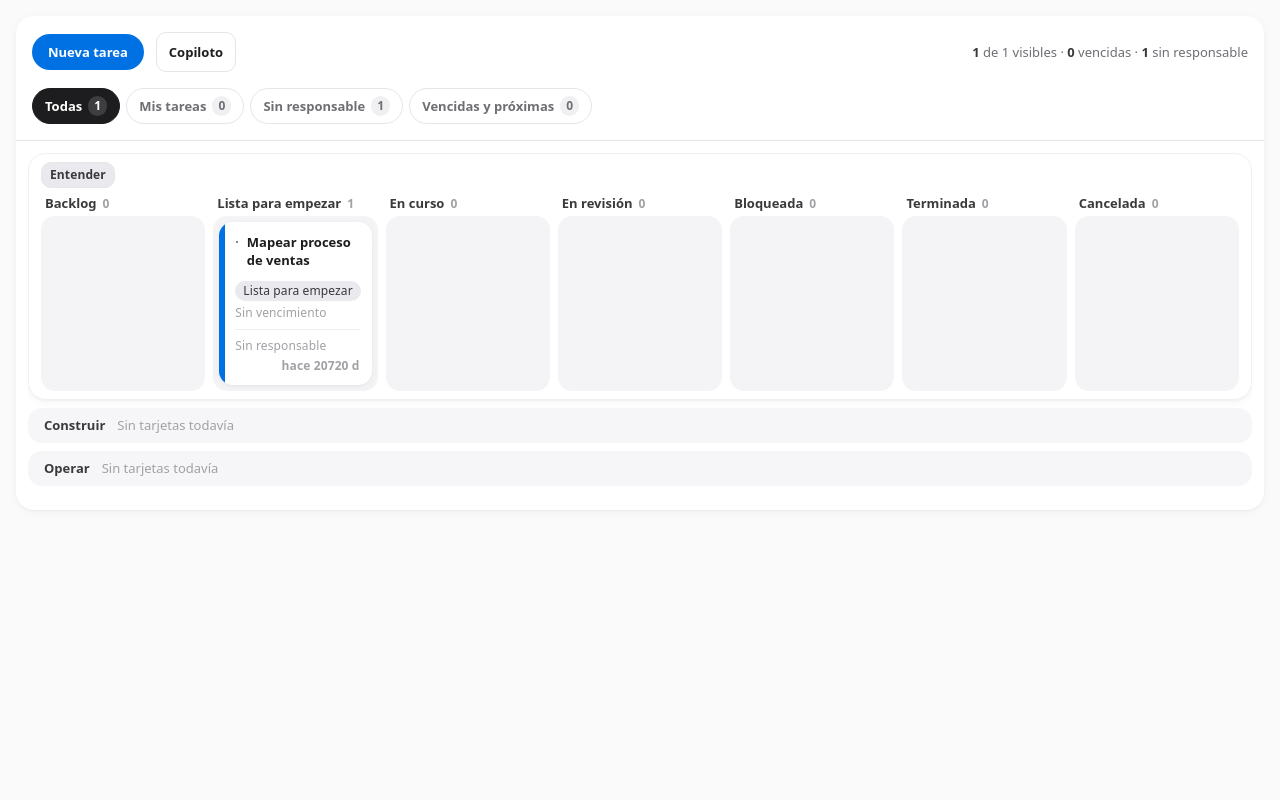
Test case: Panel Copiloto en BoardView › el botón de cerrar retira el panel
Click the button with test id "board-copilot-toggle": (196, 52) [156, 32, 236, 72]
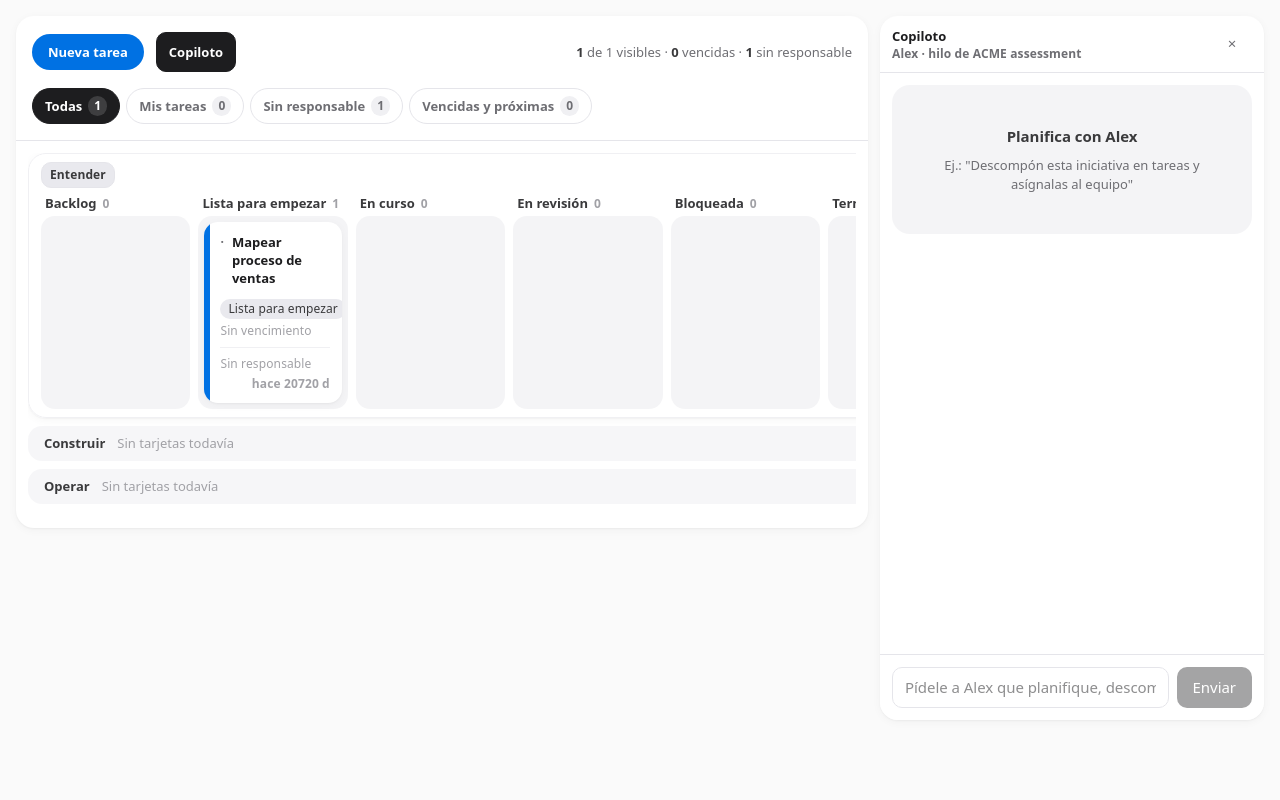
Result: the element with test id "board-copilot" is shown at [880, 16, 1264, 720]
Click the button with test id "board-copilot-close": (1232, 44) [1212, 24, 1252, 64]
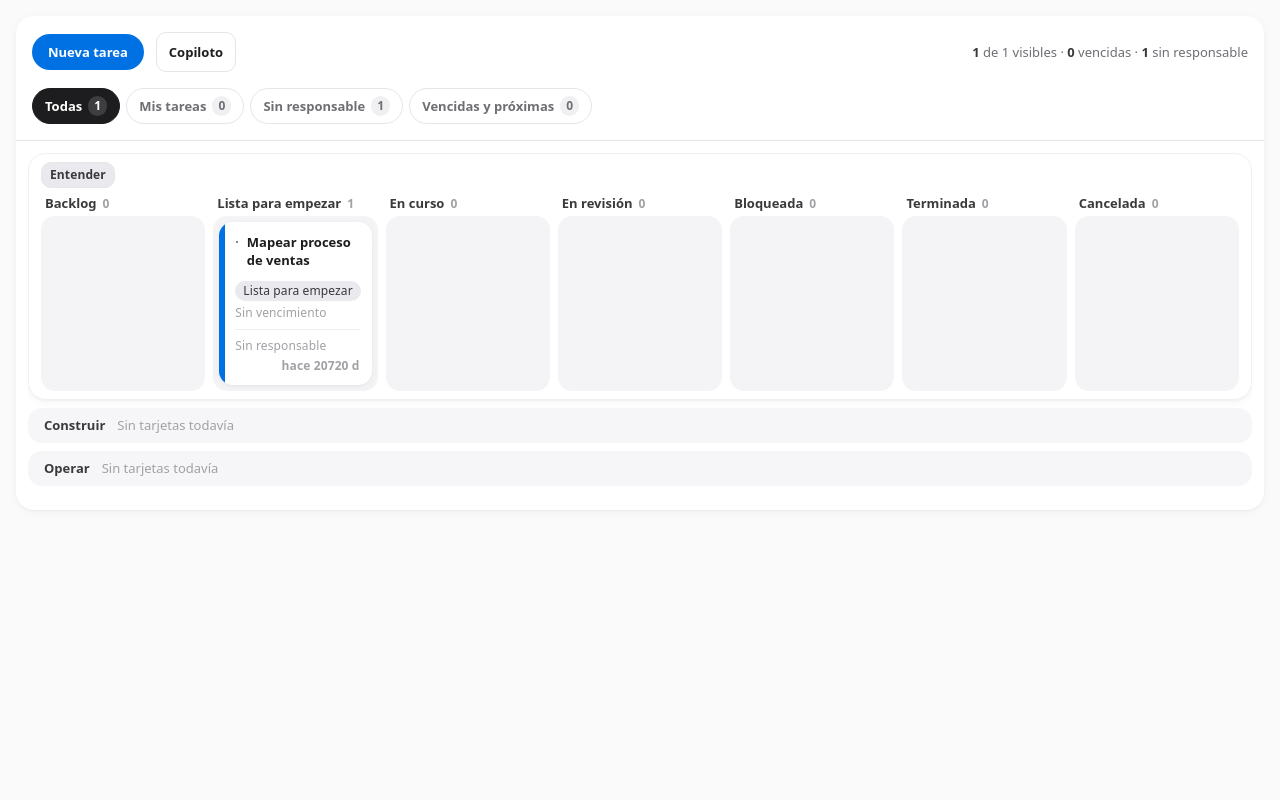
Result: the element with test id "board-copilot" is gone
